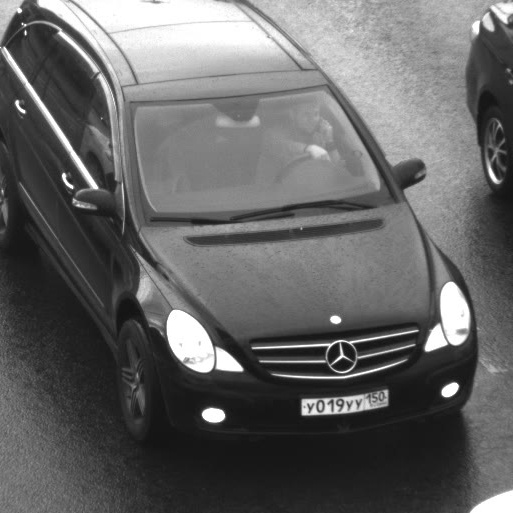plate: (290, 376, 398, 424)
